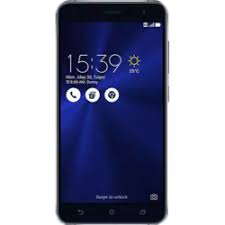asus: (53, 1, 169, 224)
